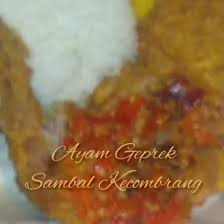ayam_geprek: (16, 68, 221, 215)
